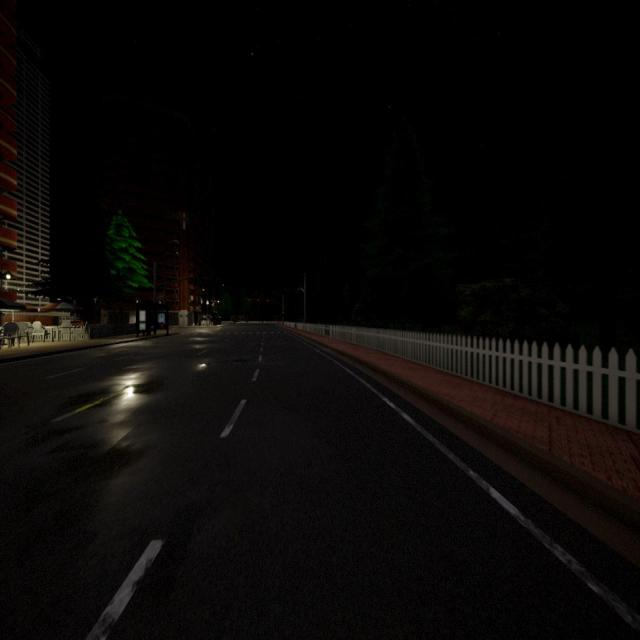traffic_light: (257, 299, 259, 301), (282, 312, 284, 314), (249, 299, 250, 301), (267, 300, 268, 302)
